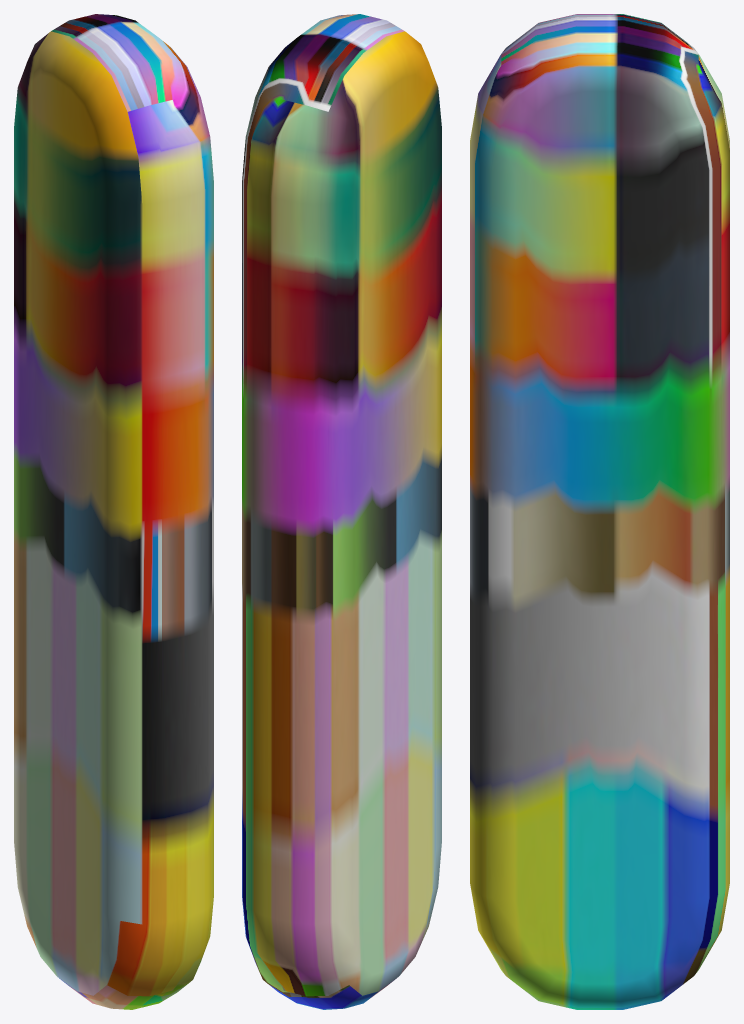
Rendered from ExtraTightSmoothCube.fbx.
3 renders of one model, left to right at view 1: azimuth 30°, elevation 25°; view 2: azimuth 150°, elevation 25°; view 3: azimuth 270°, elevation 25°, orthographic.
Parts seen in each view (by area): view 1: Cube.008; view 2: Cube.008; view 3: Cube.008.
Part boxes in pixels (<box>): Cube.008: <box>14,14,213,1009</box>; Cube.008: <box>242,14,441,1009</box>; Cube.008: <box>470,14,729,1009</box>.
Size of the model in its own units: 0.5929 by 5.22 by 1.26.
